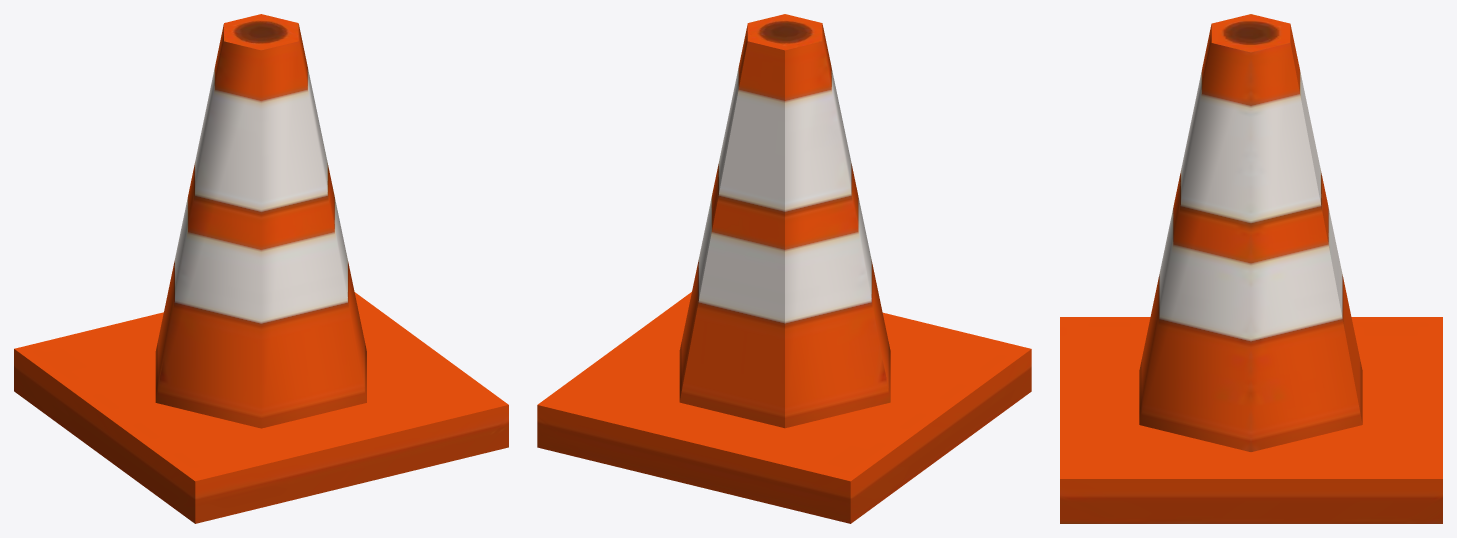
Rendered from city_road_cone.glb.
3 renders of one model, left to right at view 1: azimuth 30°, elevation 25°; view 2: azimuth 150°, elevation 25°; view 3: azimuth 270°, elevation 25°, orthographic. The views are drawn at different scales.
Visible parts, largest first — view 1: city:polySurface314; view 2: city:polySurface314; view 3: city:polySurface314.
Boxes of the visible parts, <box> form: city:polySurface314: <box>14,14,508,523</box>; city:polySurface314: <box>537,14,1031,523</box>; city:polySurface314: <box>1060,14,1442,523</box>.
Bounding box in the file's own units: 0.7214 × 0.8516 × 0.7214.
1 material, 1 textured.
